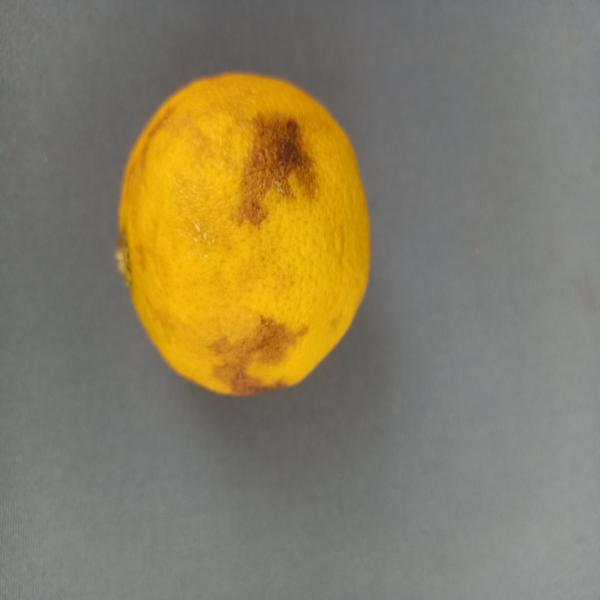Scab: (109, 59, 389, 408)
